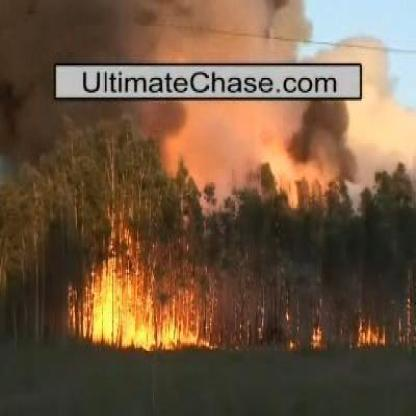-: (152, 98, 413, 194), (119, 2, 320, 68), (0, 1, 98, 136)
foggia-v2-map80-epoch100 - v1 4323: (67, 245, 205, 344), (352, 311, 388, 342), (300, 314, 322, 346)
